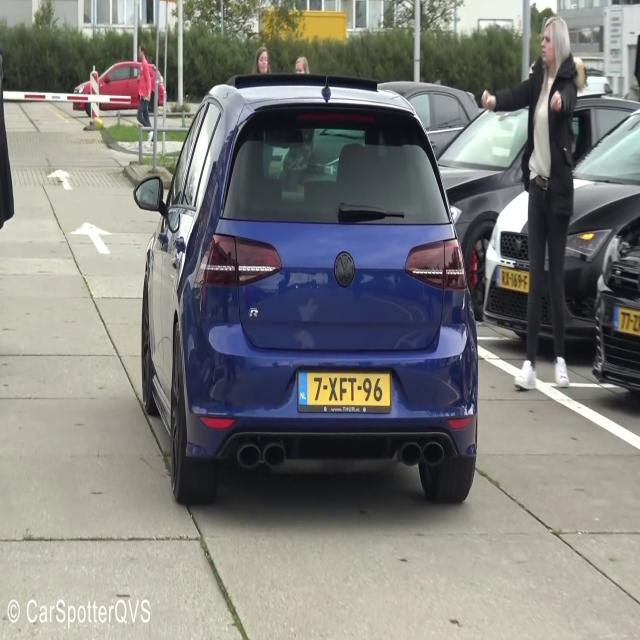number_plate: (295, 370, 391, 412)
